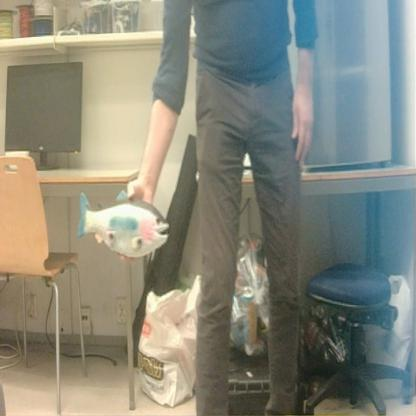rubberfish: (76, 184, 172, 262)
